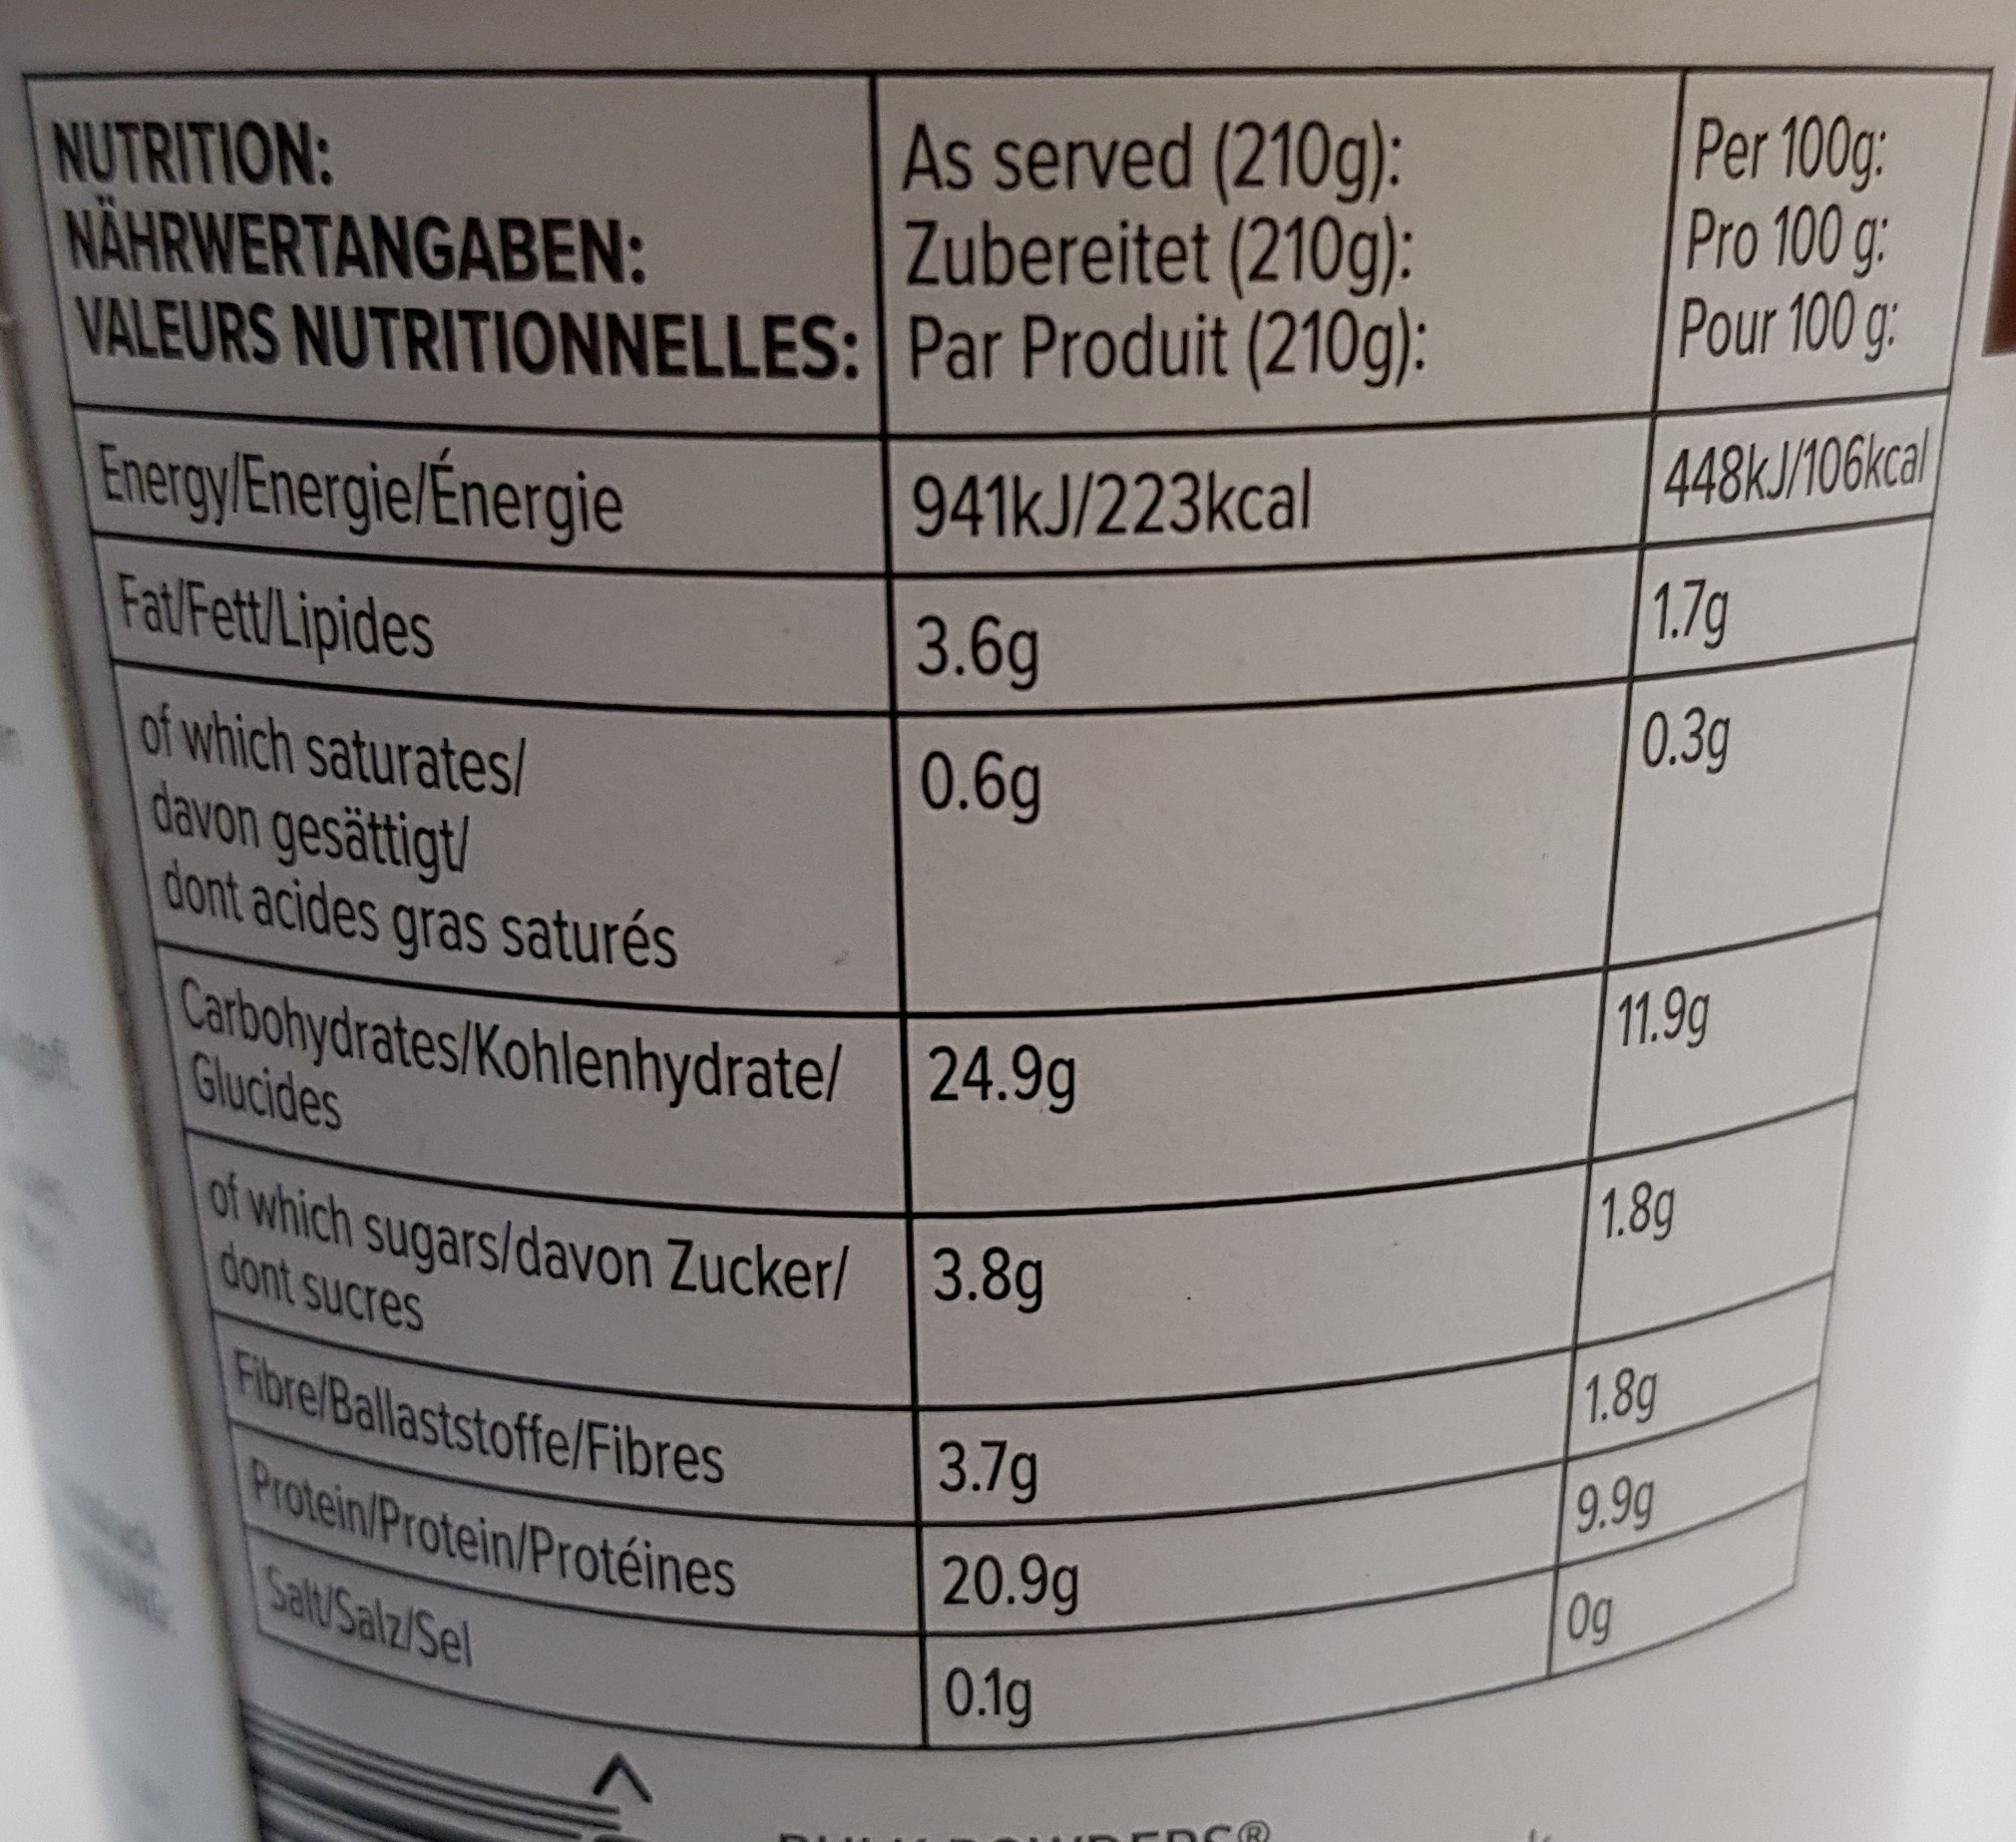column: (47, 109, 862, 1682), (899, 121, 1431, 1726), (1568, 112, 1933, 1645)
table: (21, 60, 1990, 1756)
